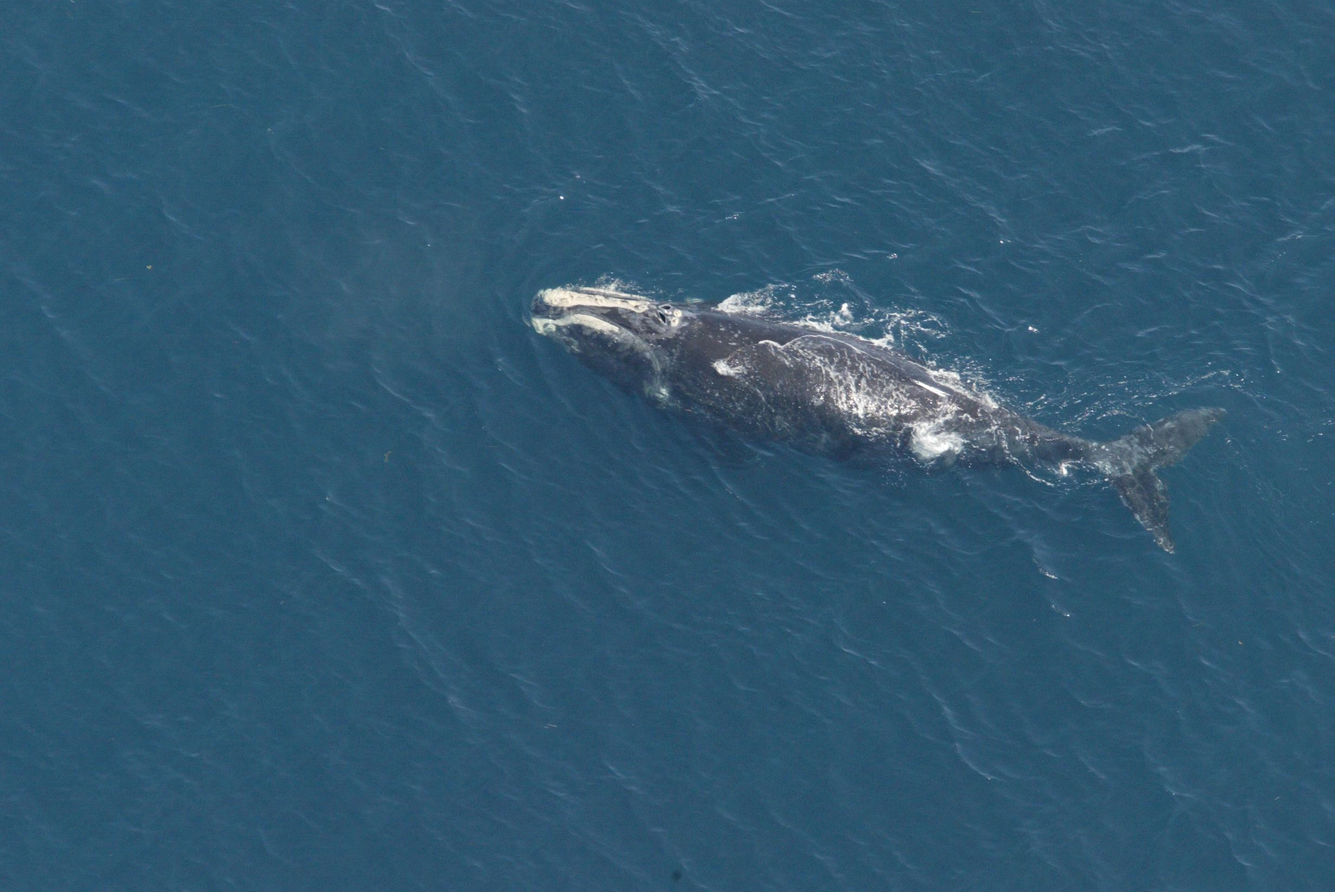whale: (521, 278, 1231, 563)
